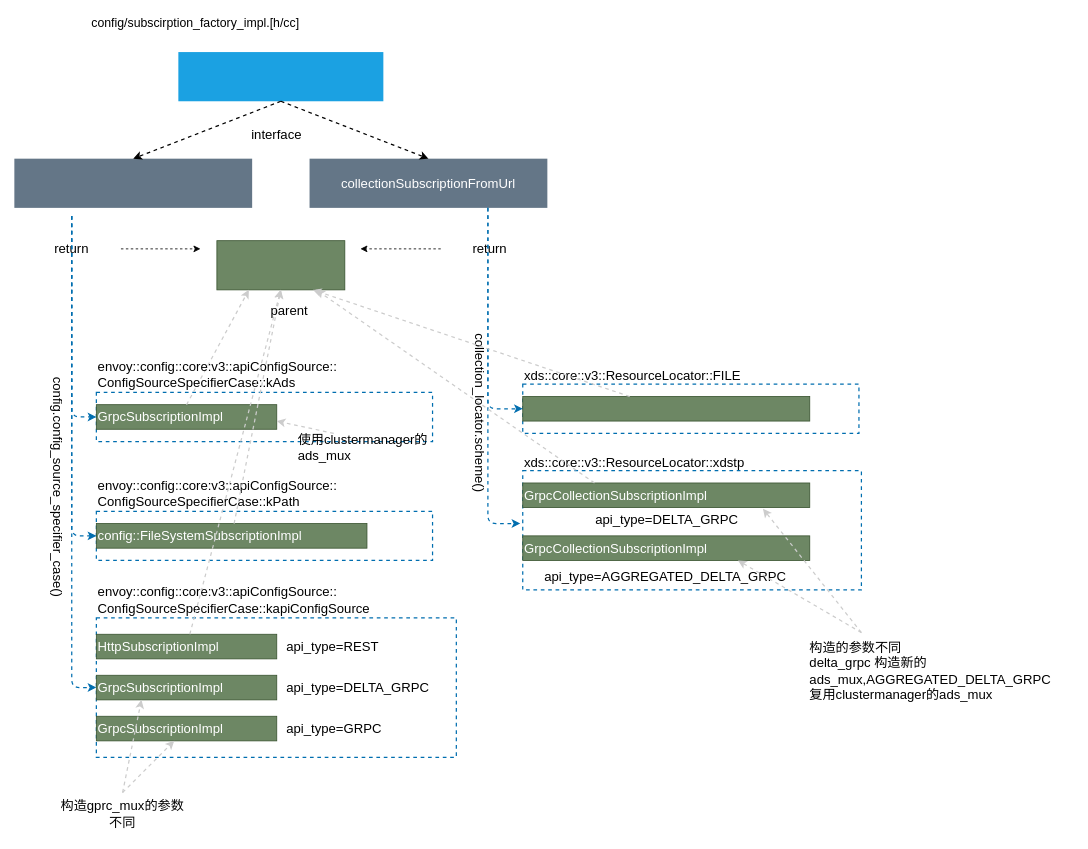
Some shapes in this 1088 by 849 pixel diagram are drawn without their labels. The shapes that lost their labels are listed below. From the top down, each one's centre as x and y in pixels, then its label:
At pixel 280 76: "SubscriptionFactoryImpl".
At pixel 133 182: "subscriptionFromConfigSource".
At pixel 280 265: "SubscriptionPtr".
At pixel 666 408: "FilesystemCollectionSubscriptionImpl".
